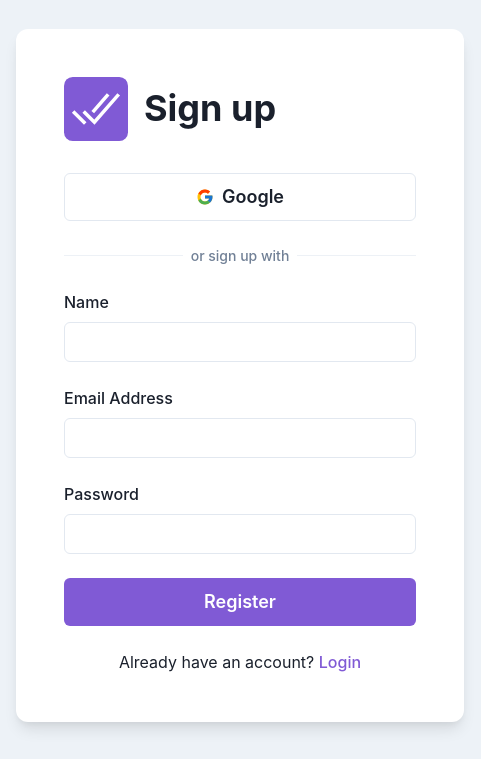
Test case: Register with email and password › should display matching error when password length is invalid
The width and height of the screenshot is (481, 759).
Type "Affri" into the field labelled "Name" at (240, 342), box x1=64 y1=322 x2=416 y2=362
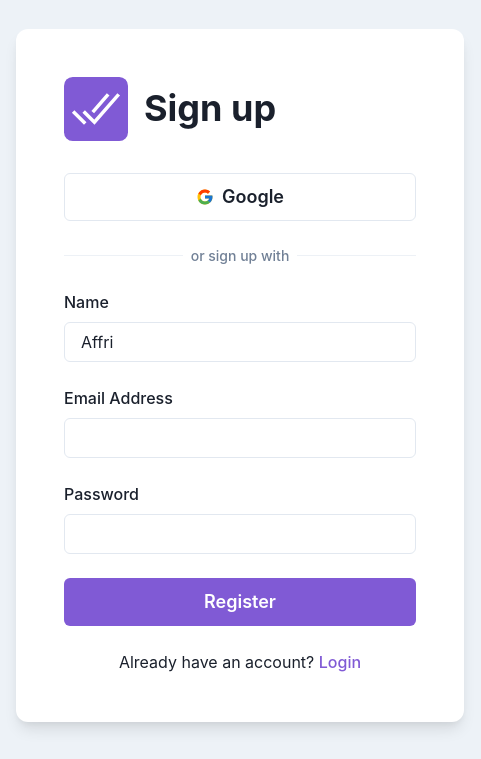
Type "test@test.com" into the field labelled "Email Address" at (240, 438), box x1=64 y1=418 x2=416 y2=458
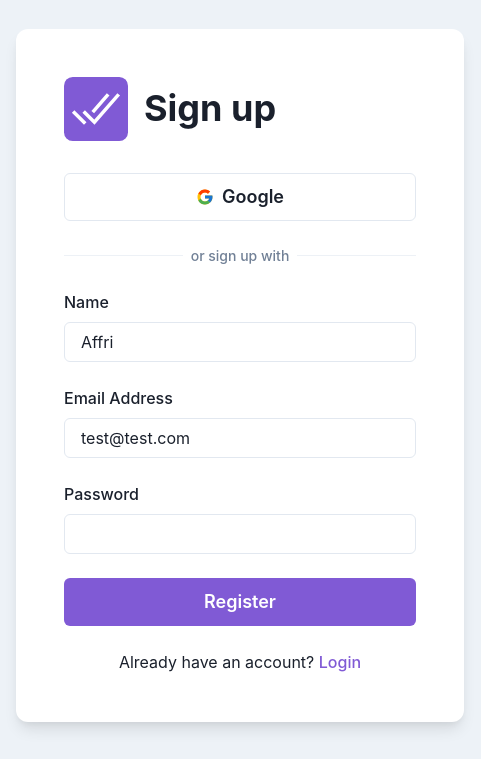
Type "12345" into the password field labelled "Password" at (240, 534), box x1=64 y1=514 x2=416 y2=554
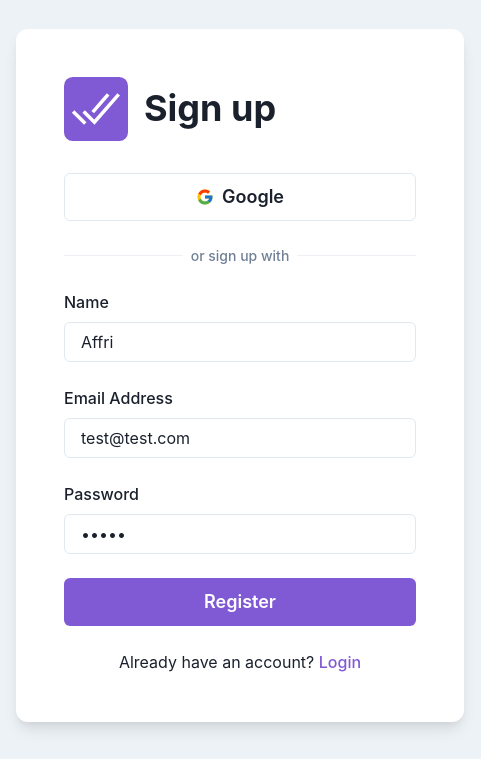
Click the button "Register" at (240, 602), box x1=64 y1=578 x2=416 y2=626
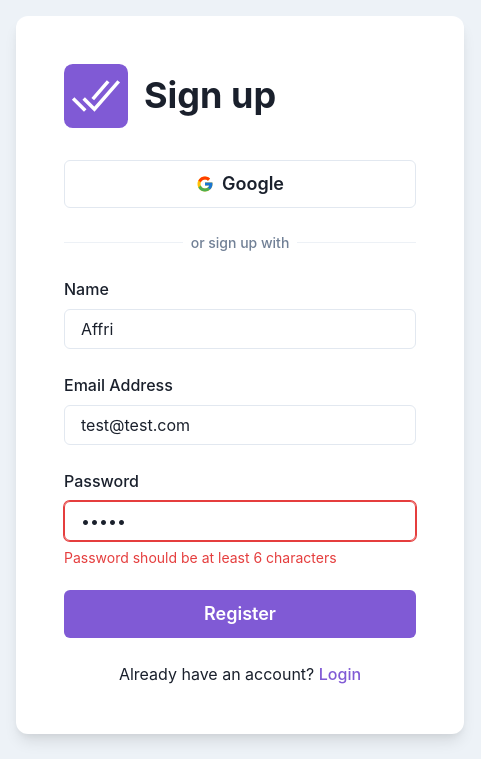
expect the text "Password should be at least 6 characters" is shown: met, box x1=64 y1=549 x2=337 y2=566
